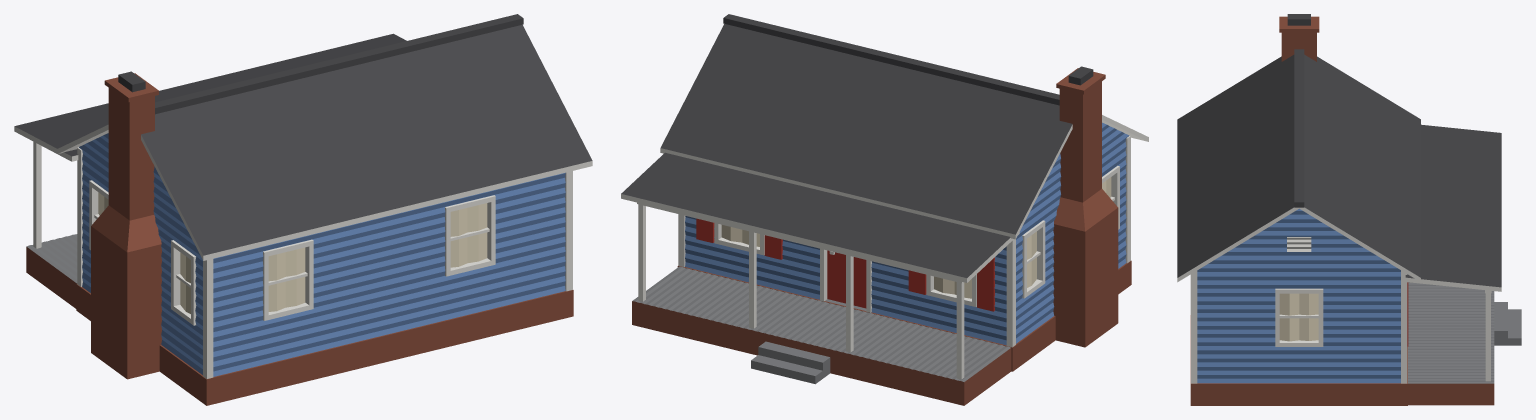
The model's file is cottage-porch.glb.
The picture shows the model from 3 angles, left to right: view 1: azimuth 30°, elevation 25°; view 2: azimuth 150°, elevation 25°; view 3: azimuth 270°, elevation 25°; orthographic projection. The views are drawn at different scales.
Visible parts, largest first — view 1: cottage-porch; view 2: cottage-porch; view 3: cottage-porch.
Boxes of the visible parts, x1=… form: cottage-porch: x1=14, y1=14, x2=592, y2=405; cottage-porch: x1=621, y1=14, x2=1148, y2=405; cottage-porch: x1=1177, y1=14, x2=1521, y2=405.
Size of the model in its own units: 8.14 by 5.34 by 7.06.
